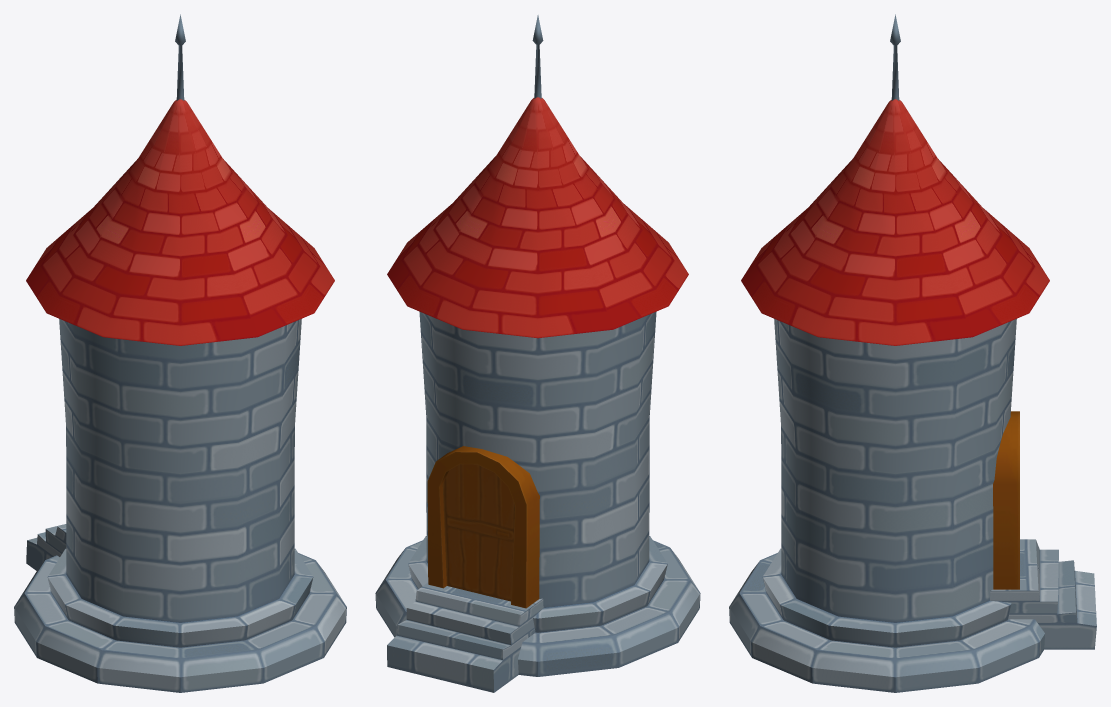
The model's file is HOS0110023.fbx.
The picture shows the model from 3 angles, left to right: view 1: azimuth 30°, elevation 25°; view 2: azimuth 150°, elevation 25°; view 3: azimuth 270°, elevation 25°; orthographic projection. The views are drawn at different scales.
Parts seen in each view (by area): view 1: smHOS0110023; view 2: smHOS0110023; view 3: smHOS0110023.
Part boxes in pixels (x1=…): smHOS0110023: x1=14, y1=14, x2=346, y2=692; smHOS0110023: x1=375, y1=15, x2=700, y2=692; smHOS0110023: x1=729, y1=14, x2=1096, y2=692.
Size of the model in its own units: 462 by 933 by 511.
Materials: 1 (1 with a texture image).
